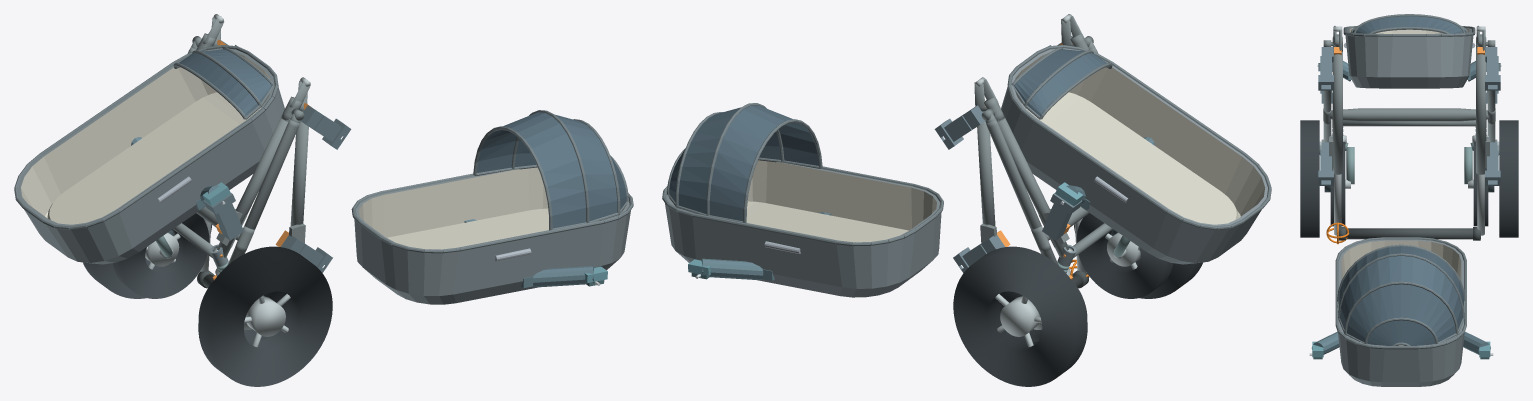
The model's file is D03_w550_state3_wheel_L.glb.
3 views of the same model, side by side, from view 1: azimuth 30°, elevation 25°; view 2: azimuth 150°, elevation 25°; view 3: azimuth 270°, elevation 25° (orthographic). The views are drawn at different scales.
Visible parts, largest first — view 1: D03_Upper, D03_Lower, RL_tire.004, FR_tire.004, V46_rear_leg_-1.005, D03_Upper_Mount_H, main_lower_-1.005, main_upper_-1.005, RL_sealed_hub.004, Universal_Cabin_Receiver_M_-1, RR_tire.004, Universal_Cabin_Receiver_L_-1 (+3 smaller); view 2: D03_Upper, D03_Lower, RR_tire.004, FL_tire.004, V46_rear_leg_1.005, D03_Upper_Mount_H, main_lower_1.005, main_upper_1.005, RR_sealed_hub.004, Universal_Cabin_Receiver_M_1, RL_tire.004, Universal_Cabin_Receiver_L_1 (+3 smaller); view 3: D03_Upper, D03_Lower, RL_tire.004, RR_tire.004, V46_rearbar.005, round_handle.004, main_upper_1.005, main_upper_-1.005, D03_Upper_Mount_H, front_fixed_round_tube.004, Universal_Cabin_Receiver_M_1, Universal_Cabin_Receiver_M_-1 (+12 smaller).
Boxes of the visible parts, bbox=[...] form: D03_Upper: bbox=[351, 110, 633, 304]; D03_Lower: bbox=[14, 45, 284, 264]; RL_tire.004: bbox=[198, 246, 332, 386]; FR_tire.004: bbox=[112, 213, 209, 298]; V46_rear_leg_-1.005: bbox=[227, 119, 299, 265]; D03_Upper_Mount_H: bbox=[464, 219, 607, 288]; main_lower_-1.005: bbox=[217, 116, 291, 257]; main_upper_-1.005: bbox=[290, 111, 308, 226]; RL_sealed_hub.004: bbox=[246, 296, 285, 336]; Universal_Cabin_Receiver_M_-1: bbox=[301, 105, 351, 149]; RR_tire.004: bbox=[83, 224, 211, 298]; Universal_Cabin_Receiver_L_-1: bbox=[203, 192, 243, 240]; D03_Upper: bbox=[662, 103, 943, 297]; D03_Lower: bbox=[1001, 45, 1271, 264]; RR_tire.004: bbox=[953, 246, 1087, 386]; FL_tire.004: bbox=[1076, 213, 1173, 298]; V46_rear_leg_1.005: bbox=[986, 119, 1058, 265]; D03_Upper_Mount_H: bbox=[688, 212, 831, 280]; main_lower_1.005: bbox=[994, 116, 1068, 257]; main_upper_1.005: bbox=[977, 111, 995, 226]; RR_sealed_hub.004: bbox=[1000, 296, 1040, 336]; Universal_Cabin_Receiver_M_1: bbox=[934, 105, 985, 149]; RL_tire.004: bbox=[1074, 224, 1203, 298]; Universal_Cabin_Receiver_L_1: bbox=[1042, 192, 1082, 240]; D03_Upper: bbox=[1335, 237, 1466, 386]; D03_Lower: bbox=[1343, 14, 1475, 88]; RL_tire.004: bbox=[1300, 120, 1319, 237]; RR_tire.004: bbox=[1499, 120, 1518, 237]; V46_rearbar.005: bbox=[1329, 108, 1489, 121]; round_handle.004: bbox=[1346, 228, 1480, 239]; main_upper_1.005: bbox=[1476, 51, 1486, 174]; main_upper_-1.005: bbox=[1332, 51, 1342, 174]; D03_Upper_Mount_H: bbox=[1309, 331, 1493, 359]; front_fixed_round_tube.004: bbox=[1343, 120, 1475, 126]; Universal_Cabin_Receiver_M_1: bbox=[1485, 47, 1500, 90]; Universal_Cabin_Receiver_M_-1: bbox=[1318, 47, 1333, 90].
Bounding box in the file's own units: 1.7 × 0.7725 × 0.671.
